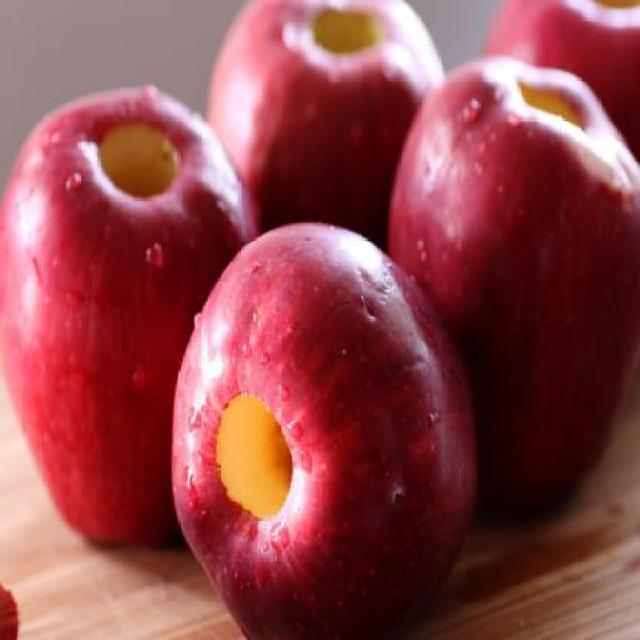Apple pie: (169, 211, 477, 631), (0, 83, 266, 551), (387, 51, 640, 514), (206, 0, 444, 249), (479, 0, 638, 163)
